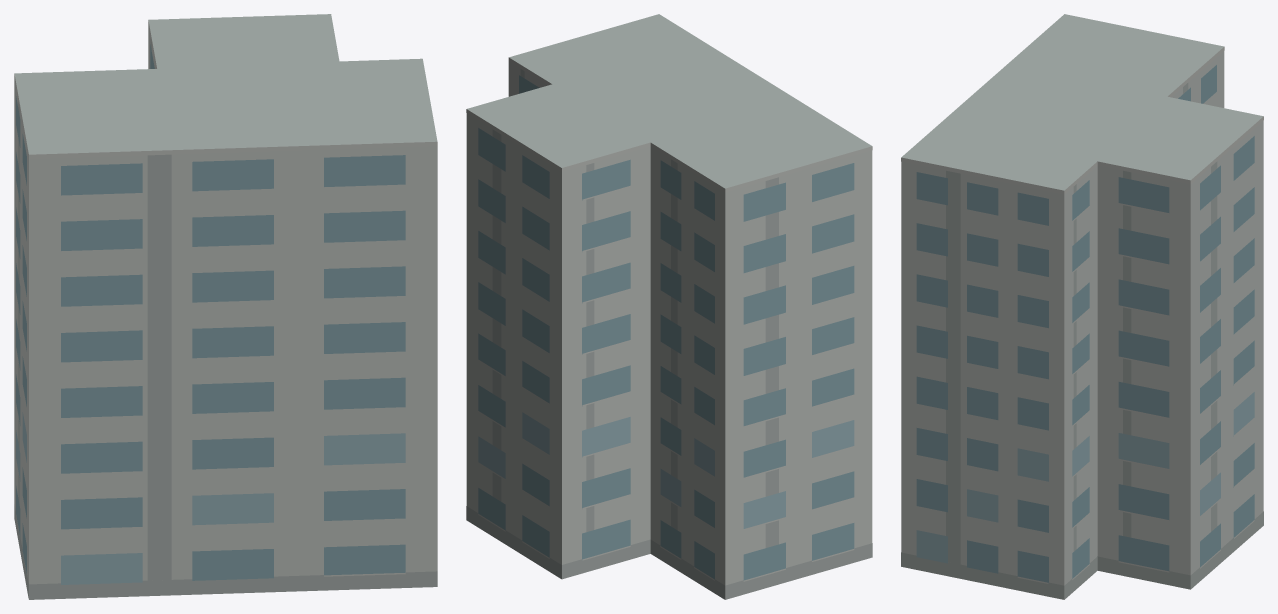
The model's file is residential-2a54d99a-bd79-47bf-9f97-167256e7779e.glb.
3 views of the same model, side by side, from view 1: azimuth 30°, elevation 25°; view 2: azimuth 150°, elevation 25°; view 3: azimuth 270°, elevation 25° (orthographic). The views are drawn at different scales.
Visible parts, largest first — view 1: residential-2a54d99a-bd79-47bf-9f97-167256e7779e.tmp; view 2: residential-2a54d99a-bd79-47bf-9f97-167256e7779e.tmp; view 3: residential-2a54d99a-bd79-47bf-9f97-167256e7779e.tmp.
Part boxes in pixels (bbox=[...]): residential-2a54d99a-bd79-47bf-9f97-167256e7779e.tmp: bbox=[14, 14, 437, 599]; residential-2a54d99a-bd79-47bf-9f97-167256e7779e.tmp: bbox=[466, 14, 872, 599]; residential-2a54d99a-bd79-47bf-9f97-167256e7779e.tmp: bbox=[901, 14, 1263, 599].
Bounding box in the file's own units: 22.59 × 24.4 × 19.6.
